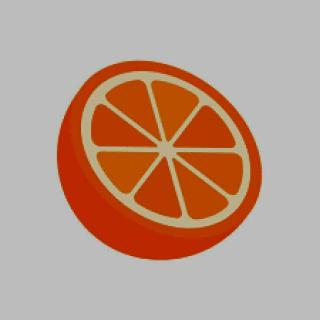orange: (51, 52, 276, 272)
